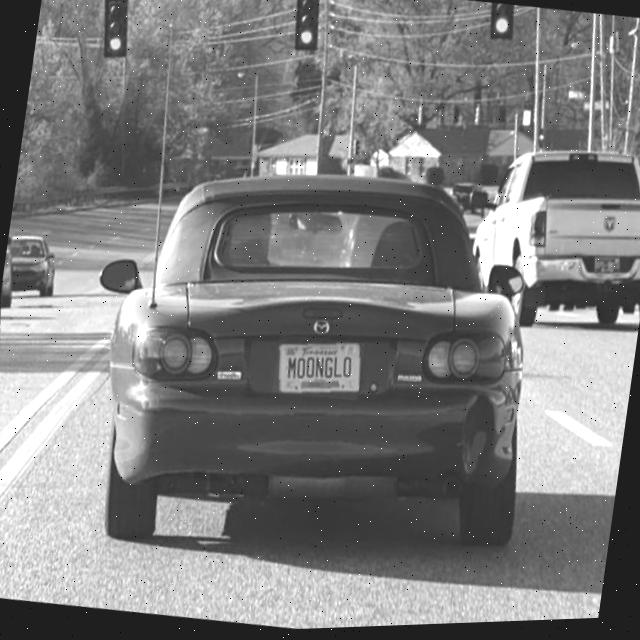LicensePlate: (278, 345, 360, 395)
